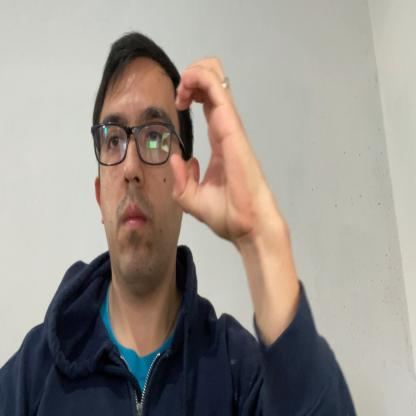C: (170, 57, 258, 240)
